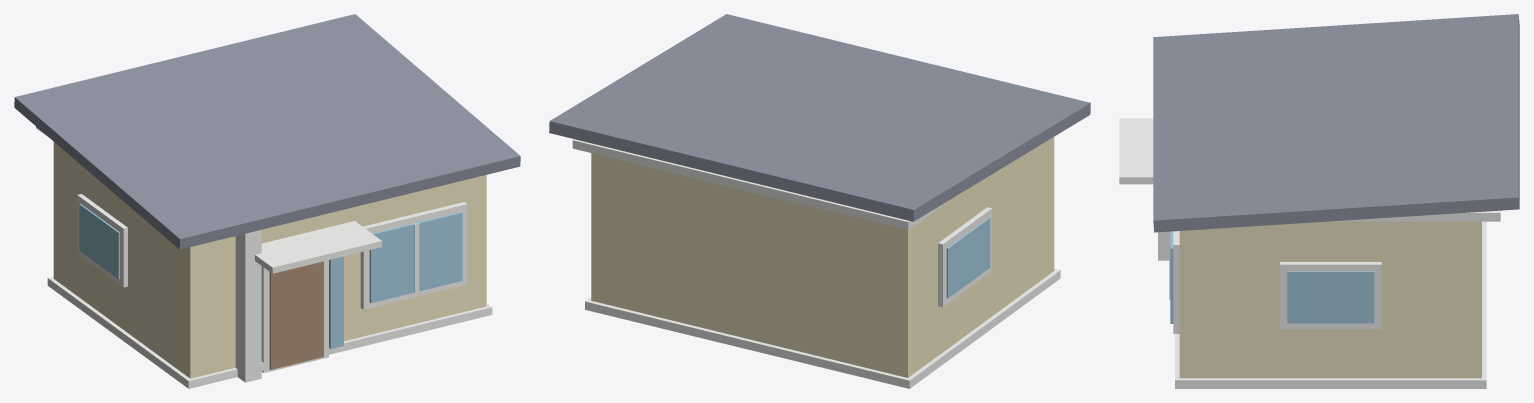
File: rumah_a.fbx
The picture shows the model from 3 angles, left to right: view 1: azimuth 30°, elevation 25°; view 2: azimuth 150°, elevation 25°; view 3: azimuth 270°, elevation 25°; orthographic projection. The views are drawn at different scales.
Visible parts, largest first — view 1: ShellRoof, ShellWall, ShellTrim, ShellGlass, ShellDoor; view 2: ShellWall, ShellRoof, ShellTrim, ShellGlass; view 3: ShellRoof, ShellWall, ShellTrim, ShellGlass.
Boxes of the visible parts, x1=… form: ShellRoof: x1=14, y1=14, x2=520, y2=249; ShellWall: x1=53, y1=142, x2=486, y2=378; ShellTrim: x1=36, y1=126, x2=492, y2=388; ShellGlass: x1=79, y1=203, x2=462, y2=348; ShellDoor: x1=269, y1=261, x2=323, y2=369; ShellWall: x1=591, y1=137, x2=1054, y2=377; ShellRoof: x1=549, y1=14, x2=1090, y2=221; ShellTrim: x1=572, y1=139, x2=1060, y2=388; ShellGlass: x1=946, y1=217, x2=990, y2=298; ShellRoof: x1=1153, y1=14, x2=1519, y2=232; ShellWall: x1=1179, y1=221, x2=1481, y2=378; ShellTrim: x1=1119, y1=118, x2=1500, y2=388; ShellGlass: x1=1170, y1=231, x2=1374, y2=323.
Bounding box in the file's own units: 23 × 12.58 × 21.2.
